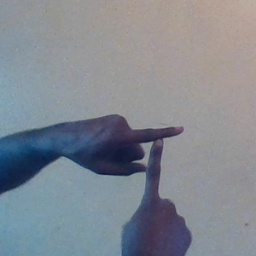T: (96, 108, 208, 226)
